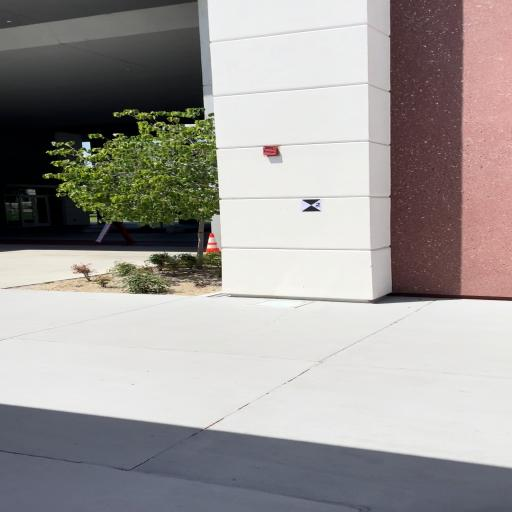target2: (301, 199, 322, 211)
